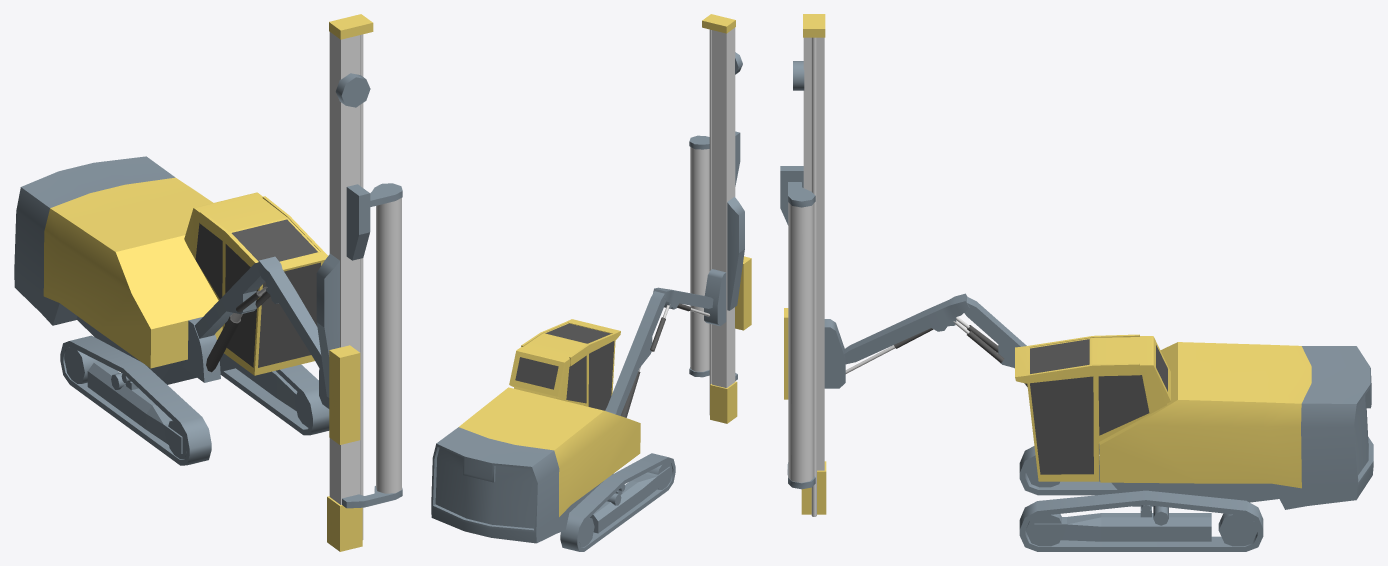
3 views of the same model, side by side, from view 1: azimuth 30°, elevation 25°; view 2: azimuth 150°, elevation 25°; view 3: azimuth 270°, elevation 25° (orthographic). The views are drawn at different scales.
Visible parts, largest first — view 1: T35; view 2: T35; view 3: T35.
Boxes of the visible parts, x1=… form: T35: x1=14, y1=14, x2=402, y2=551; T35: x1=431, y1=14, x2=751, y2=551; T35: x1=780, y1=14, x2=1373, y2=551.
Bounding box in the file's own units: 2.39 × 8.09 × 8.87.
